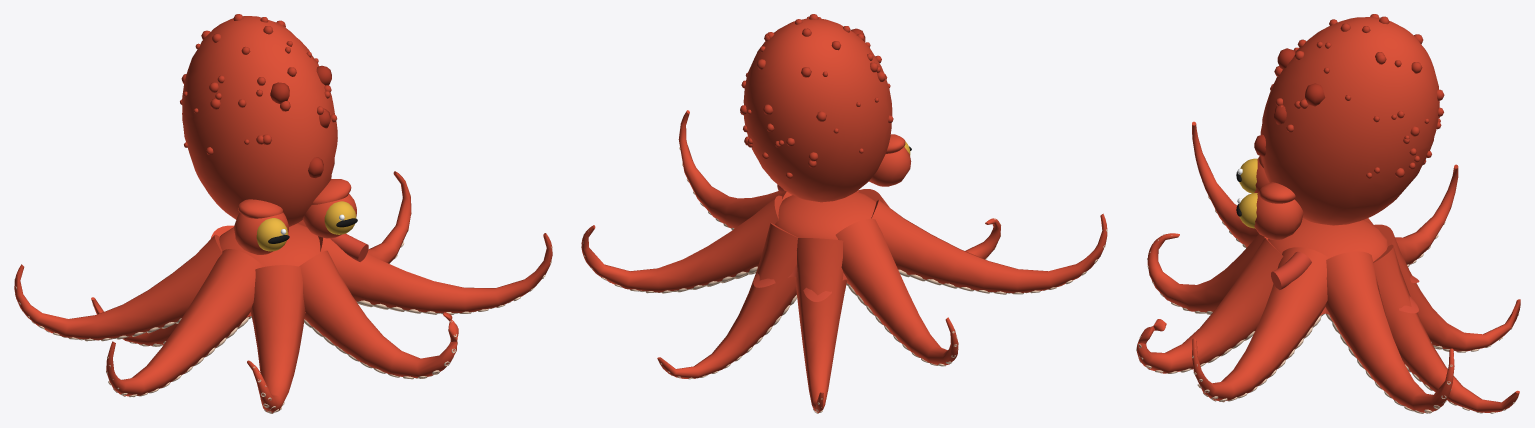
Rendered from octopus.glb.
The picture shows the model from 3 angles, left to right: view 1: azimuth 30°, elevation 25°; view 2: azimuth 150°, elevation 25°; view 3: azimuth 270°, elevation 25°; orthographic projection. The views are drawn at different scales.
Visible parts, largest first — view 1: Arms, Body, SuckerRims, Papillae, Irises, Blotches, Siphon; view 2: Arms, Body, Papillae, SuckerRims, Web; view 3: Arms, Body, Papillae, SuckerRims, Blotches, Irises, Siphon.
Boxes of the visible parts, bbox=[...] form: Arms: bbox=[14, 171, 552, 412]; Body: bbox=[182, 16, 356, 266]; SuckerRims: bbox=[14, 180, 552, 413]; Papillae: bbox=[180, 14, 337, 154]; Irises: bbox=[256, 201, 356, 251]; Blotches: bbox=[270, 65, 331, 178]; Siphon: bbox=[330, 233, 368, 261]; Arms: bbox=[581, 110, 1107, 413]; Body: bbox=[743, 18, 911, 239]; Papillae: bbox=[740, 14, 893, 178]; SuckerRims: bbox=[581, 131, 1107, 413]; Web: bbox=[753, 264, 847, 301]; Arms: bbox=[1137, 121, 1520, 412]; Body: bbox=[1254, 17, 1439, 261]; Papillae: bbox=[1270, 14, 1444, 178]; SuckerRims: bbox=[1136, 181, 1518, 413]; Blotches: bbox=[1254, 48, 1325, 156]; Irises: bbox=[1239, 158, 1257, 228]; Siphon: bbox=[1271, 251, 1311, 289].
Bounding box in the file's own units: 0.1371 × 0.1028 × 0.0989.
